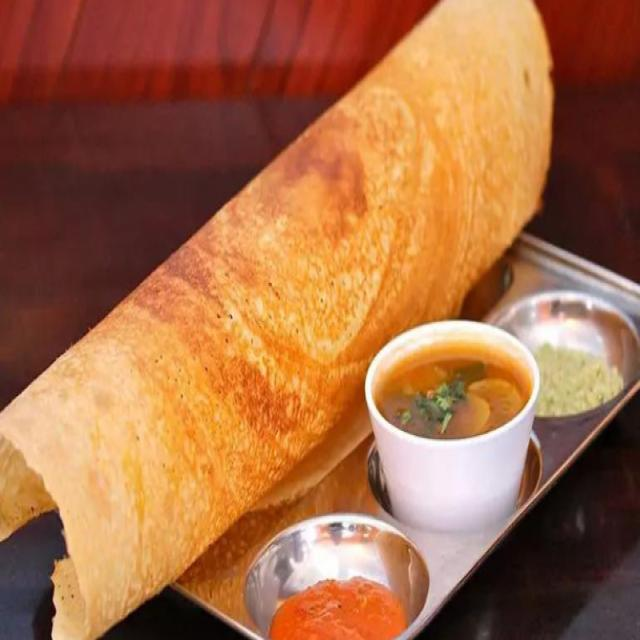DOSA: (2, 4, 552, 637)
